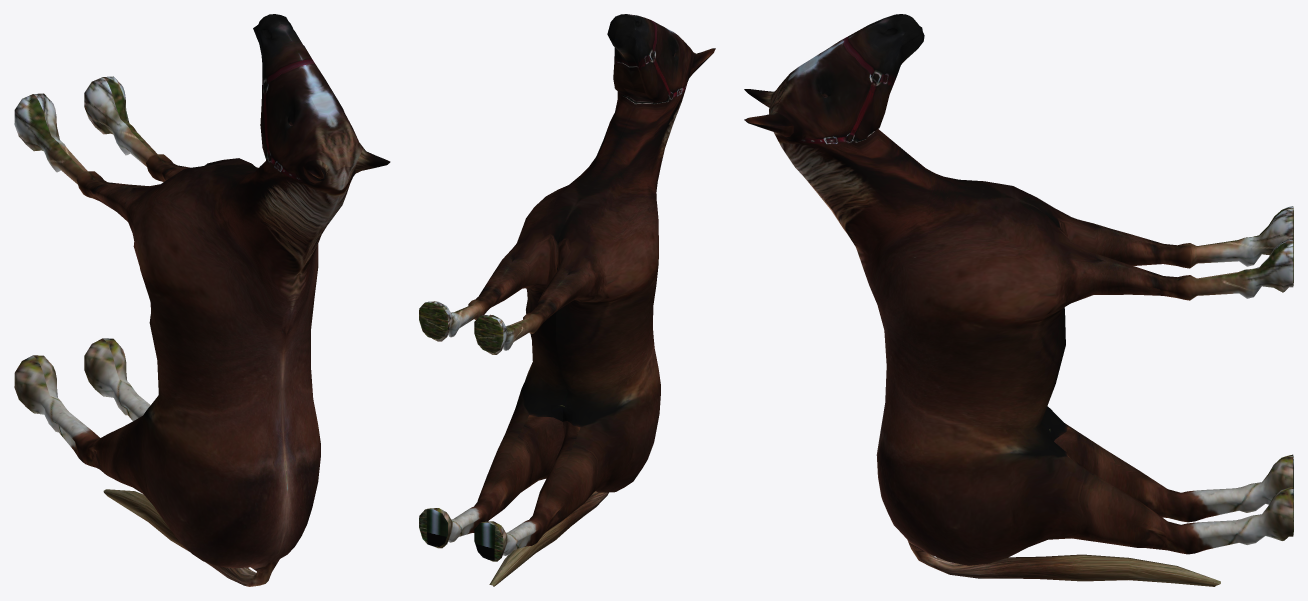
The model's file is dma.obj.
The picture shows the model from 3 angles, left to right: view 1: azimuth 30°, elevation 25°; view 2: azimuth 150°, elevation 25°; view 3: azimuth 270°, elevation 25°; orthographic projection. The views are drawn at different scales.
Visible parts, largest first — view 1: Heppa; view 2: Heppa; view 3: Heppa.
Boxes of the visible parts, box(x1,y1,x2,y2) form: Heppa: box(14, 14, 390, 586); Heppa: box(419, 14, 715, 586); Heppa: box(744, 14, 1293, 586).
Bounding box in the file's own units: 8.6 × 31.42 × 27.47.
Materials: 1 (1 with a texture image).
